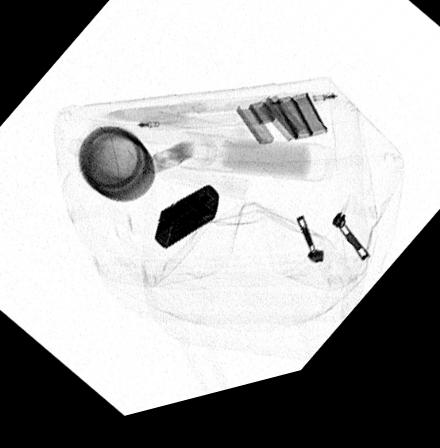Lighter: (152, 194, 220, 259)
